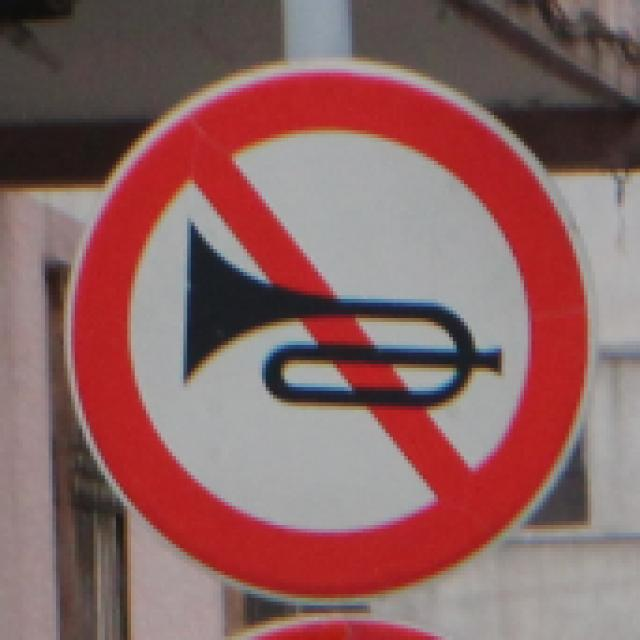No Horn: (57, 58, 595, 605)
